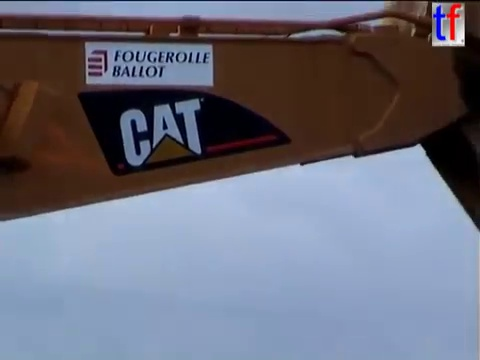excavator: (1, 1, 480, 236)
